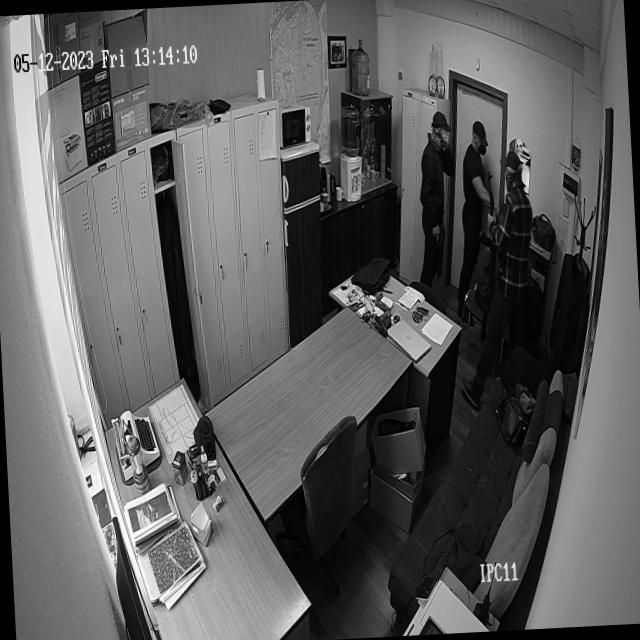gun: (478, 168, 498, 279), (436, 208, 449, 286)
person: (490, 150, 534, 360), (456, 118, 492, 294)
person with a gun: (489, 150, 534, 357), (418, 112, 456, 294)
